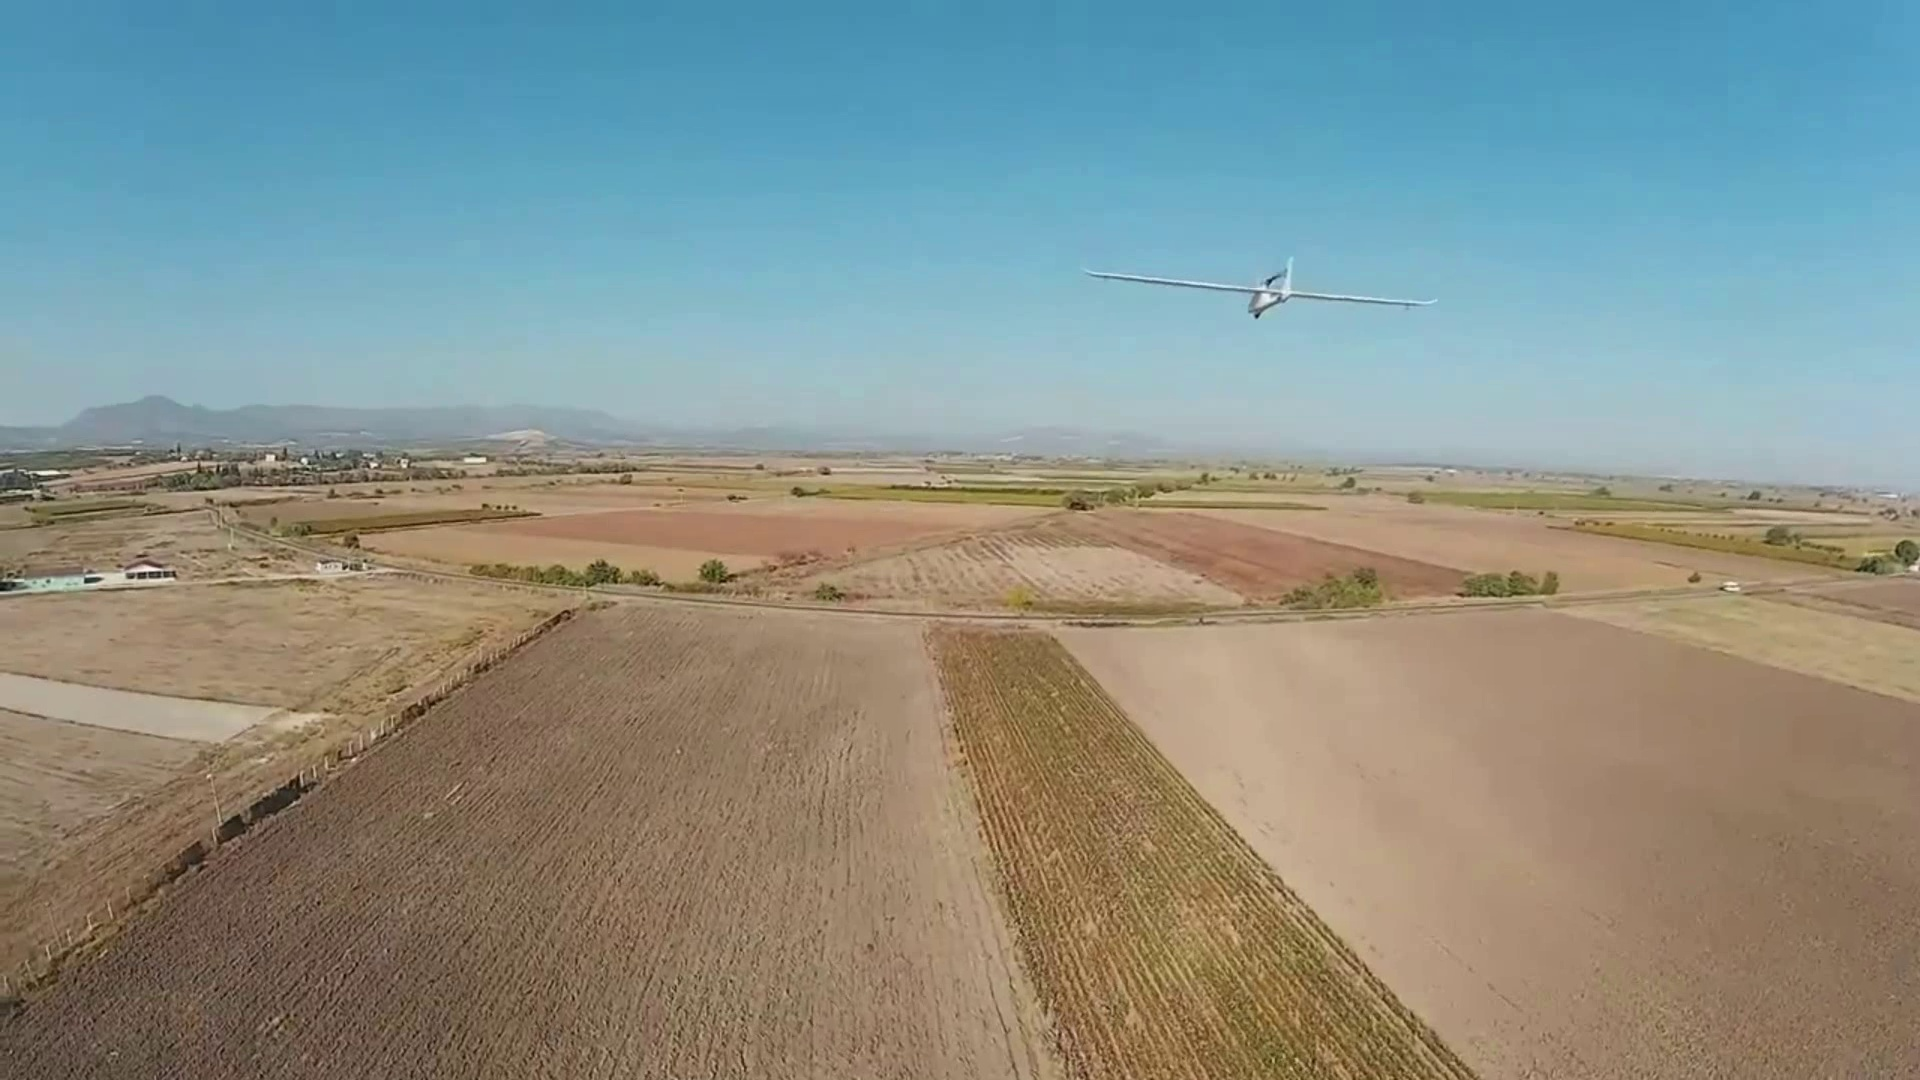airplane: (1083, 256, 1436, 316)
